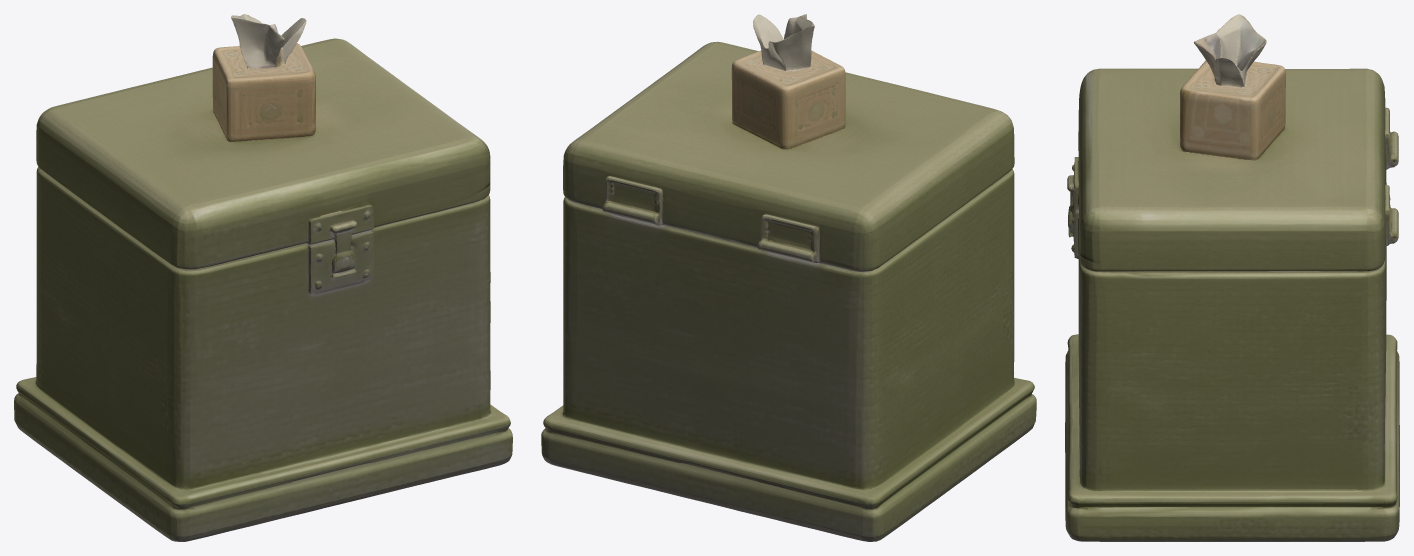
File: chest_side_table.glb
3 renders of one model, left to right at view 1: azimuth 30°, elevation 25°; view 2: azimuth 150°, elevation 25°; view 3: azimuth 270°, elevation 25°, orthographic.
Visible parts, largest first — view 1: geometry_0; view 2: geometry_0; view 3: geometry_0.
Part boxes in pixels (x1,y1,x2,y2): geometry_0: (14, 14, 512, 541); geometry_0: (541, 14, 1036, 541); geometry_0: (1065, 14, 1399, 541).
Bounding box in the file's own units: 0.8293 × 1 × 0.7004.
Materials: 1 (1 with a texture image).
